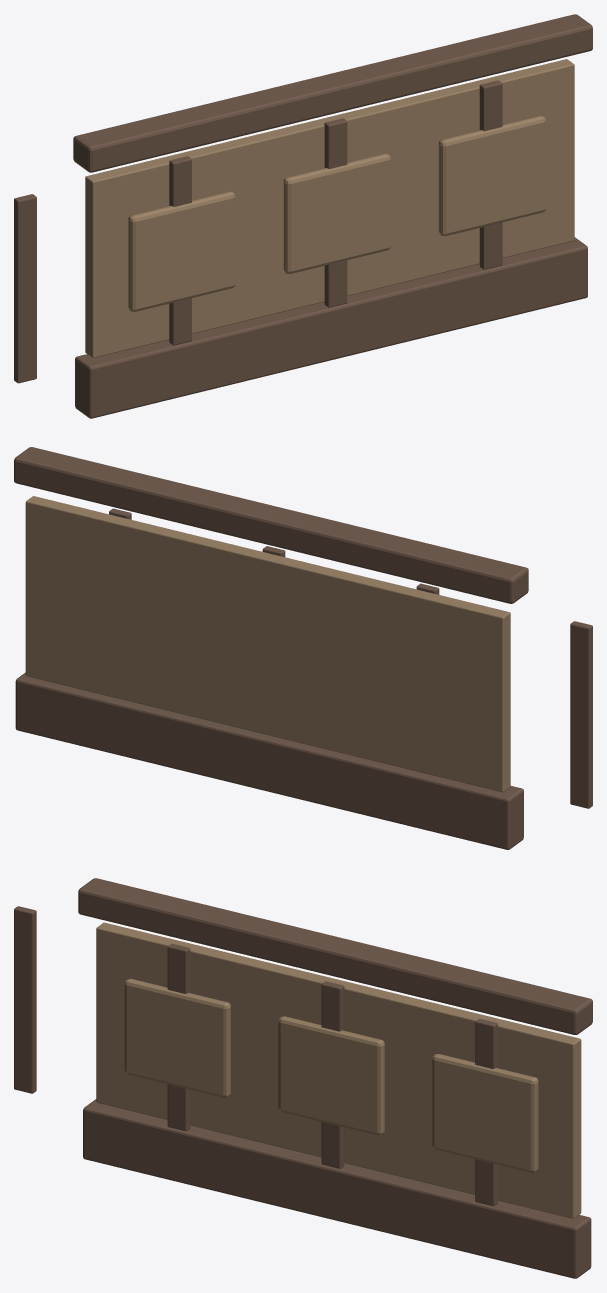
3 renders of one model, top to bottom at view 1: azimuth 30°, elevation 25°; view 2: azimuth 150°, elevation 25°; view 3: azimuth 330°, elevation 25°, orthographic.
Visible parts, largest first — view 1: wainscotRun; view 2: wainscotRun; view 3: wainscotRun.
Boxes of the visible parts, box(x1,y1,x2,y2) form: wainscotRun: box(14, 14, 592, 418); wainscotRun: box(14, 447, 592, 849); wainscotRun: box(14, 878, 592, 1278).
Bounding box in the file's own units: 2.06 × 0.945 × 0.115.
